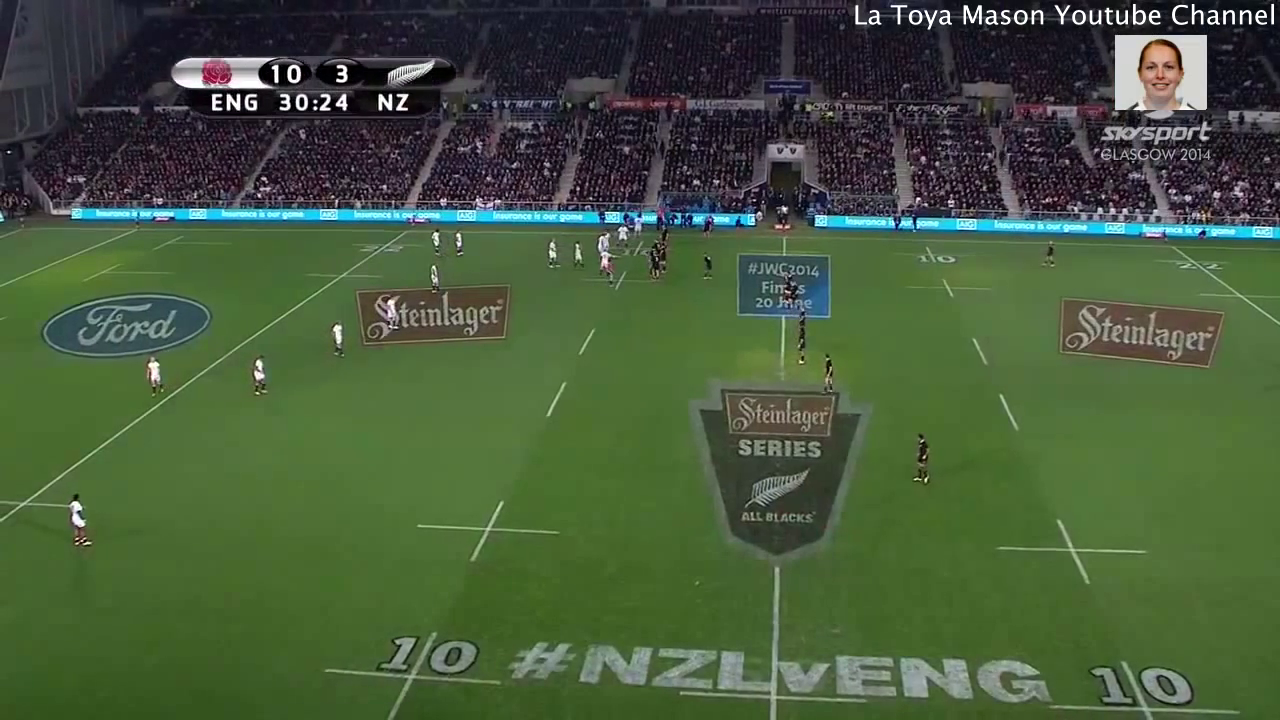10_metre: (317, 627, 508, 720), (1042, 651, 1249, 716), (992, 516, 1154, 597), (412, 491, 568, 566), (908, 272, 997, 301), (895, 241, 977, 272)
corner_flag: (130, 208, 144, 234), (18, 212, 29, 231)
lineout: (591, 193, 679, 294)
player: (61, 492, 92, 551), (245, 349, 272, 400), (911, 431, 933, 490), (139, 356, 165, 397), (423, 256, 445, 301), (820, 350, 839, 399), (379, 293, 401, 333), (329, 318, 347, 356), (595, 248, 616, 280), (792, 329, 809, 367), (541, 236, 560, 269), (450, 228, 469, 260), (571, 237, 587, 275), (698, 251, 716, 283), (614, 222, 632, 251), (1039, 238, 1056, 268), (656, 240, 671, 274), (429, 224, 443, 255), (647, 249, 660, 281), (796, 304, 810, 328), (700, 217, 711, 243), (780, 266, 792, 289), (785, 281, 795, 308), (632, 214, 641, 236), (657, 223, 668, 240)
